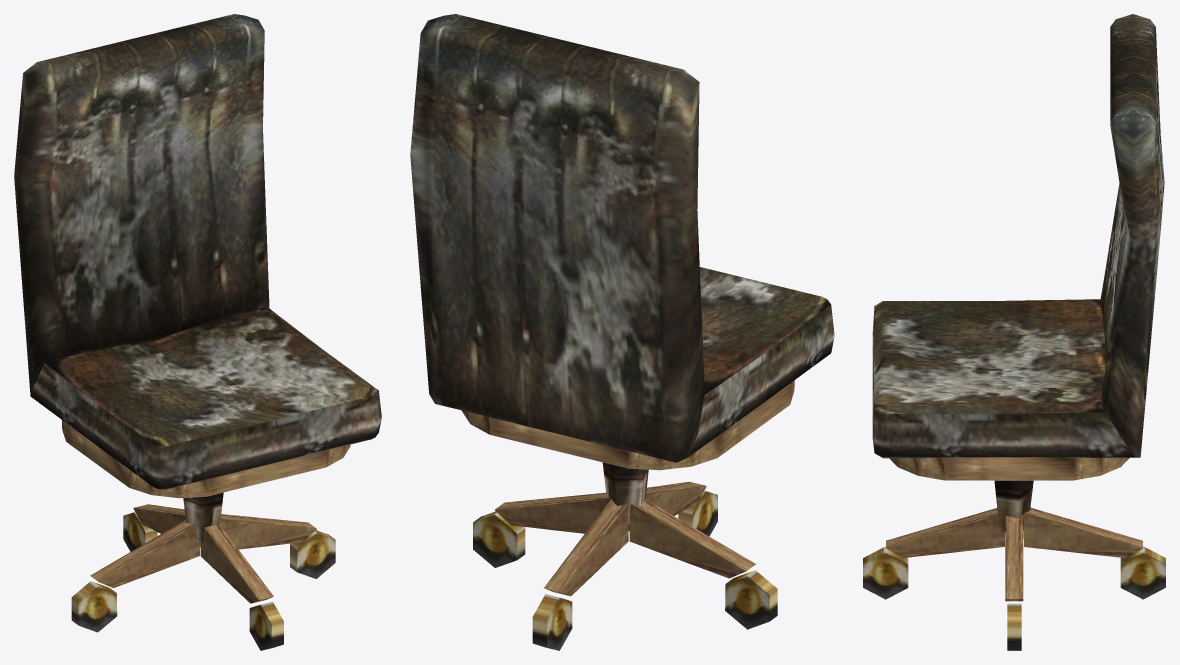
File: Chair02.glb
3 renders of one model, left to right at view 1: azimuth 30°, elevation 25°; view 2: azimuth 150°, elevation 25°; view 3: azimuth 270°, elevation 25°, orthographic. The views are drawn at different scales.
Parts seen in each view (by area): view 1: _Chair02; view 2: _Chair02; view 3: _Chair02.
Part boxes in pixels (box(x1,y1,x2,y2)): _Chair02: box(14, 14, 381, 650); _Chair02: box(410, 14, 834, 650); _Chair02: box(863, 14, 1165, 650).
Bounding box in the file's own units: 0.7551 × 1.46 × 0.7551.
1 material, 1 textured.
